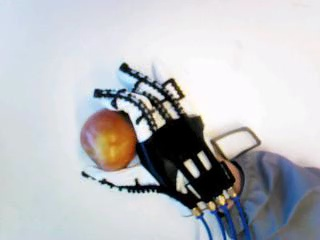apple: (77, 108, 139, 172)
hand: (76, 61, 236, 218)
